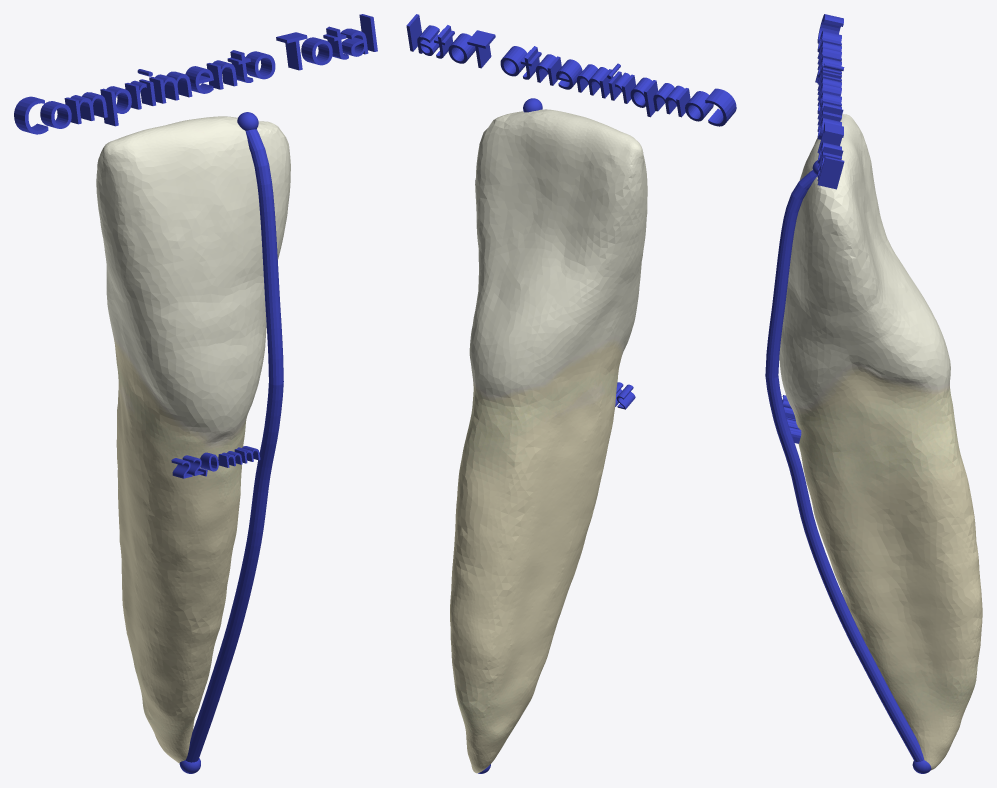
File: 32 - Comprimento Total.glb
3 views of the same model, side by side, from view 1: azimuth 30°, elevation 25°; view 2: azimuth 150°, elevation 25°; view 3: azimuth 270°, elevation 25° (orthographic). The views are drawn at different scales.
Visible parts, largest first — view 1: 3MFMeshParent_0, 3MFMeshParent_1, 3MFMeshParent_3, 3MFMeshParent_2; view 2: 3MFMeshParent_0, 3MFMeshParent_1; view 3: 3MFMeshParent_0, 3MFMeshParent_3, 3MFMeshParent_1, 3MFMeshParent_2.
Boxes of the visible parts, x1=… form: 3MFMeshParent_0: x1=96, y1=116, x2=290, y2=763; 3MFMeshParent_1: x1=14, y1=14, x2=377, y2=134; 3MFMeshParent_3: x1=185, y1=129, x2=283, y2=762; 3MFMeshParent_2: x1=171, y1=446, x2=260, y2=478; 3MFMeshParent_0: x1=450, y1=109, x2=647, y2=773; 3MFMeshParent_1: x1=406, y1=14, x2=736, y2=126; 3MFMeshParent_0: x1=779, y1=114, x2=982, y2=770; 3MFMeshParent_3: x1=765, y1=170, x2=923, y2=761; 3MFMeshParent_1: x1=815, y1=14, x2=844, y2=189; 3MFMeshParent_2: x1=782, y1=395, x2=801, y2=443.
Bounding box in the file's own units: 0.2702 × 0.5634 × 0.1656.
Materials: 2 (1 with a texture image).
